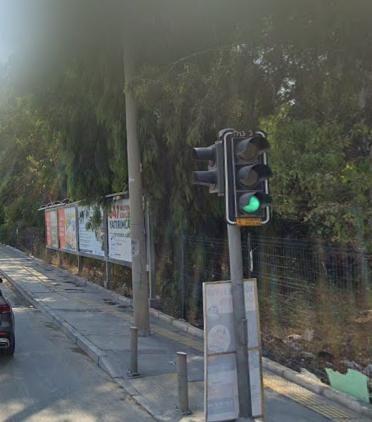greenlight: (212, 117, 277, 234)
